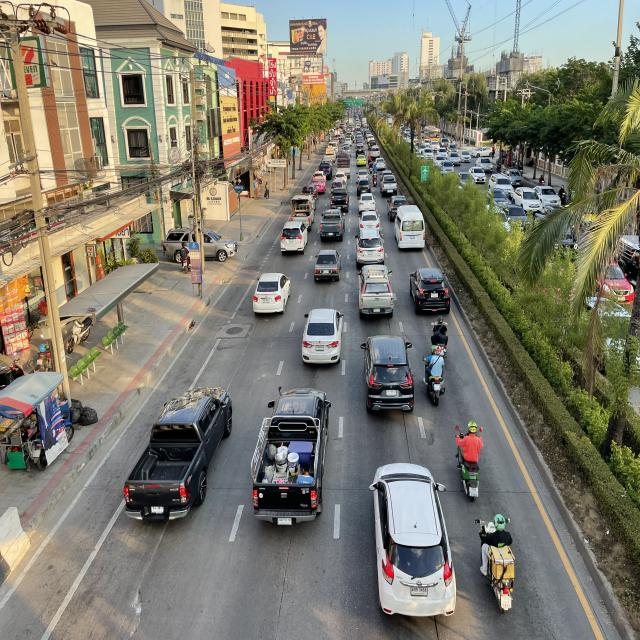bike: (475, 512, 518, 616), (454, 418, 486, 506), (422, 344, 446, 408), (431, 314, 448, 359)
car: (124, 385, 234, 522), (369, 460, 459, 619), (360, 334, 415, 415), (301, 307, 345, 368), (409, 267, 451, 316), (252, 271, 292, 318), (393, 205, 426, 251), (355, 229, 385, 269), (280, 221, 309, 256), (313, 249, 342, 282), (319, 209, 346, 242), (357, 210, 381, 232)
truck: (250, 382, 332, 527), (356, 264, 395, 320), (290, 194, 315, 231)
